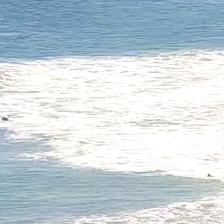surfer: (206, 172, 214, 178), (2, 116, 10, 121)
